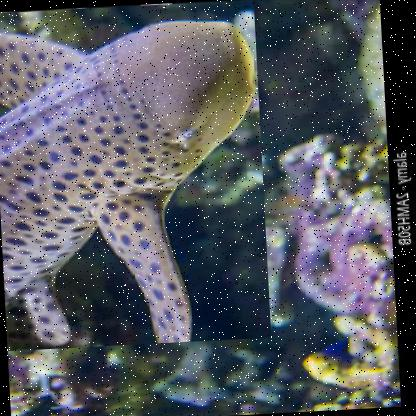zebra_shark: (0, 0, 272, 351)
